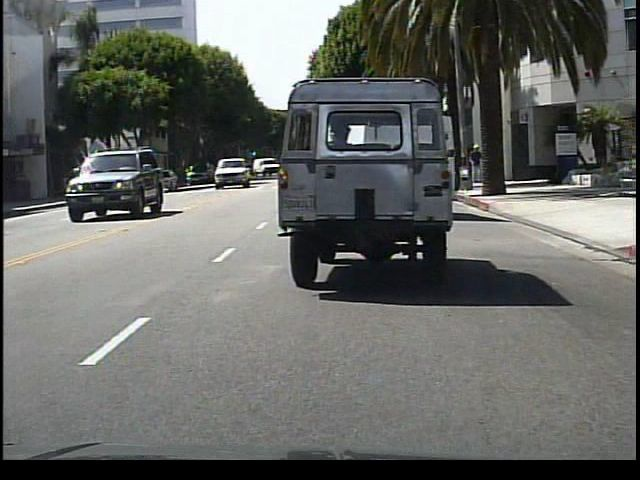person: (469, 144, 484, 186)
